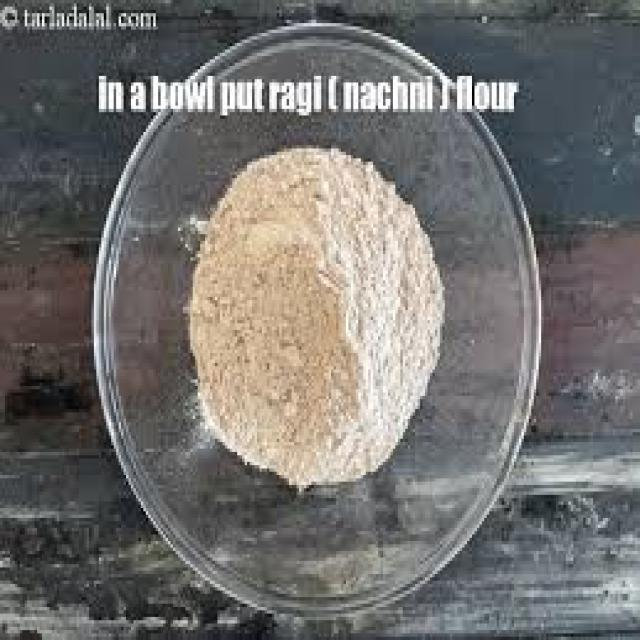ROTI: (188, 142, 442, 482)
